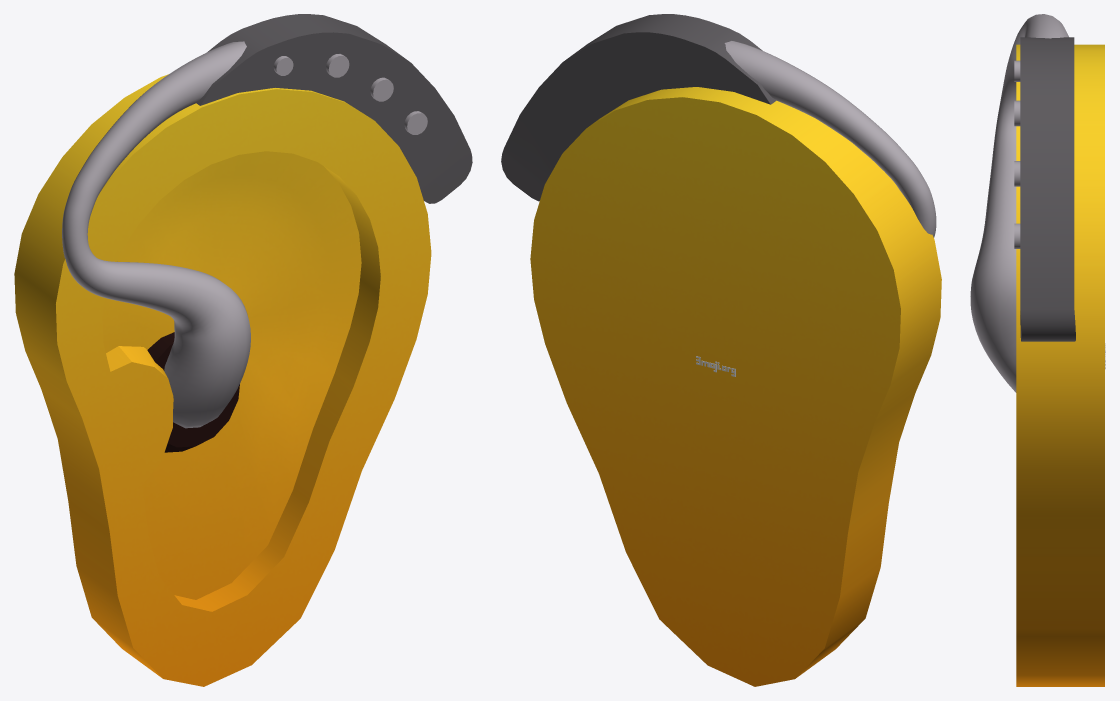
The model's file is ear_with_hearing_aid.gltf.
The picture shows the model from 3 angles, left to right: view 1: azimuth 30°, elevation 25°; view 2: azimuth 150°, elevation 25°; view 3: azimuth 270°, elevation 25°; orthographic projection. The views are drawn at different scales.
Visible parts, largest first — view 1: Circle.275, Plane.026, Circle.276, Circle.278, Circle.277; view 2: Circle.275, Circle.276, Plane.026; view 3: Circle.275, Circle.276, Plane.026, Circle.277.
Boxes of the visible parts, x1,y1,x2,y2 form: Circle.275: (14, 74, 431, 686); Plane.026: (62, 41, 250, 428); Circle.276: (196, 14, 472, 203); Circle.278: (147, 332, 239, 452); Circle.277: (273, 54, 427, 134); Circle.275: (530, 87, 941, 686); Circle.276: (501, 14, 776, 201); Plane.026: (724, 41, 936, 237); Circle.275: (1016, 44, 1104, 686); Circle.276: (1020, 37, 1075, 341); Plane.026: (970, 14, 1068, 392); Circle.277: (1014, 60, 1020, 248).
Size of the model in its own units: 1.22 by 1.74 by 0.3176.
Materials: 4 (1 with a texture image).
